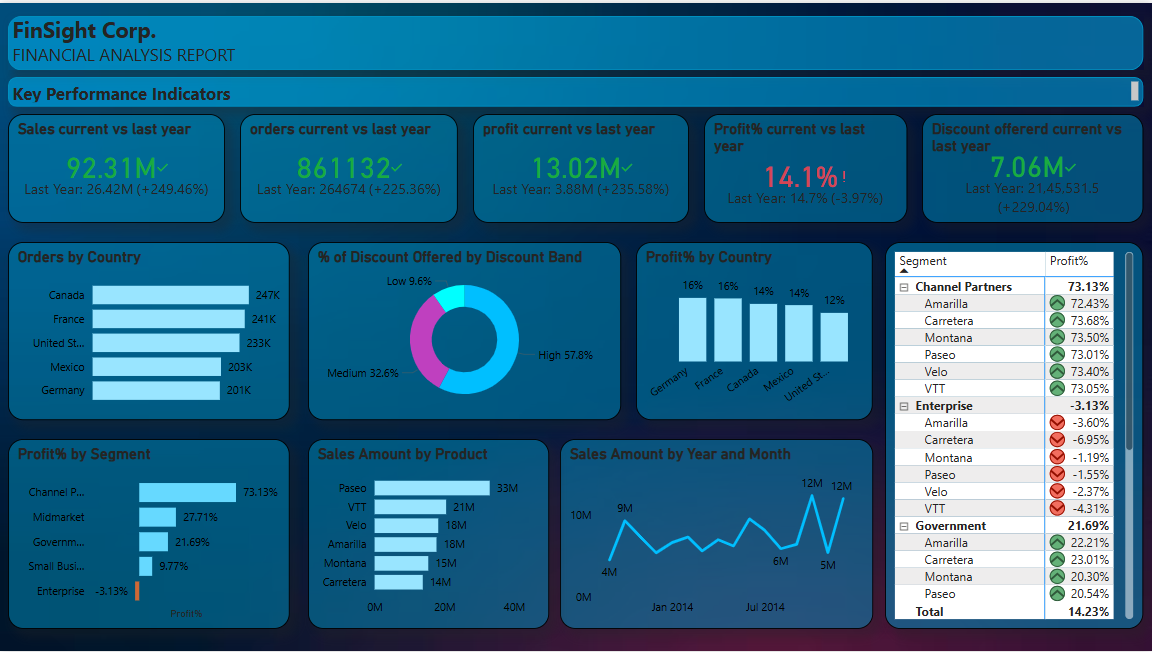

Layout of this report page (visuals, bound fields, positions):
{"tool":"powerbi","page":{"name":"Page 1","canvas":[1280,720],"ordinal":0},"visuals":[{"type":"shape","box":[8.8,14.6,1261.5,60.3],"z":0},{"type":"shape","box":[8.8,82.7,1261.5,33.1],"z":1000},{"type":"textbox","box":[8.8,7.8,1261.5,74.9],"z":2000},{"type":"textbox","box":[8.9,82.2,1261.1,33.3],"z":3000},{"type":"kpi","title":"profit current vs last year","fields":{"TrendLine":["Date Table.Year"],"Indicator":["analysis.Total Profit"],"Goal":["analysis.Profit Last Year"]},"box":[525.6,123.3,240,121.1],"z":4000},{"type":"kpi","title":"Sales current vs last year","fields":{"Indicator":["analysis.Sales Amount"],"TrendLine":["Date Table.Year"],"Goal":["analysis.Sales Amount Last Year"]},"box":[8.9,123.3,241.1,121.1],"z":5000},{"type":"kpi","title":"Discount offererd current vs last year","fields":{"TrendLine":["Date Table.Year"],"Indicator":["analysis.Discount Offered"],"Goal":["analysis.Discount Offered Last Year"]},"box":[1024.4,123.3,245.6,121.1],"z":6000},{"type":"kpi","title":"Profit% current vs last year","fields":{"TrendLine":["Date Table.Year"],"Goal":["analysis.Profit margin Last Year"],"Indicator":["analysis.Profit%"]},"box":[782.2,123.3,225.6,121.1],"z":7000},{"type":"kpi","title":"orders current vs last year","fields":{"TrendLine":["Date Table.Year"],"Indicator":["analysis.Orders"],"Goal":["analysis.Orders Last Year"]},"box":[266.7,123.3,242.2,121.1],"z":8000},{"type":"barChart","fields":{"Category":["Financials.Country"],"Y":["analysis.Orders"]},"box":[8.9,265.6,313.3,197.8],"z":9000},{"type":"columnChart","fields":{"Y":["analysis.Profit%"],"Category":["Financials.Country"]},"box":[706.7,265.6,263.3,197.8],"z":10000},{"type":"donutChart","title":"% of Discount Offered by Discount Band","fields":{"Category":["Financials.Discount Band"],"Y":["analysis.Discount Offered"]},"box":[342.2,265.6,347.8,197.8],"z":11000},{"type":"barChart","fields":{"Y":["analysis.Profit%"],"Category":["Financials.Segment"]},"box":[8.9,484.4,313.3,211.1],"z":12000},{"type":"lineChart","fields":{"Category":["Date Table.Date.Variation.Date Hierarchy.Year","Date Table.Date.Variation.Date Hierarchy.Month"],"Y":["analysis.Sales Amount"]},"box":[622.2,484.4,347.8,211.1],"z":13000},{"type":"barChart","fields":{"Y":["analysis.Sales Amount"],"Category":["Financials.Product"]},"box":[342.2,484.4,267.8,211.1],"z":14000},{"type":"pivotTable","fields":{"Rows":["Financials.Segment","Financials.Product"],"Values":["analysis.Profit%"]},"box":[983.3,265.6,286.7,430],"z":15000}]}

Visuals, with their boxes in screenshot pixels (x1, y1, x2, y2), scaled from the page's 1280x720 canvas onto the 1152x652 screenshot:
shape: x1=8, y1=13, x2=1143, y2=68
shape: x1=8, y1=75, x2=1143, y2=105
textbox: x1=8, y1=7, x2=1143, y2=75
textbox: x1=8, y1=74, x2=1143, y2=105
"profit current vs last year" kpi: x1=473, y1=112, x2=689, y2=221
"Sales current vs last year" kpi: x1=8, y1=112, x2=225, y2=221
"Discount offererd current vs last year" kpi: x1=922, y1=112, x2=1143, y2=221
"Profit% current vs last year" kpi: x1=704, y1=112, x2=907, y2=221
"orders current vs last year" kpi: x1=240, y1=112, x2=458, y2=221
barChart - Financials.Country x analysis.Orders: x1=8, y1=241, x2=290, y2=420
columnChart - analysis.Profit% x Financials.Country: x1=636, y1=241, x2=873, y2=420
"% of Discount Offered by Discount Band" donutChart: x1=308, y1=241, x2=621, y2=420
barChart - analysis.Profit% x Financials.Segment: x1=8, y1=439, x2=290, y2=630
lineChart - Date Table.Date.Variation.Date Hierarchy.Year x Date Table.Date.Variation.Date Hierarchy.Month: x1=560, y1=439, x2=873, y2=630
barChart - analysis.Sales Amount x Financials.Product: x1=308, y1=439, x2=549, y2=630
pivotTable - Financials.Segment x Financials.Product: x1=885, y1=241, x2=1143, y2=630
